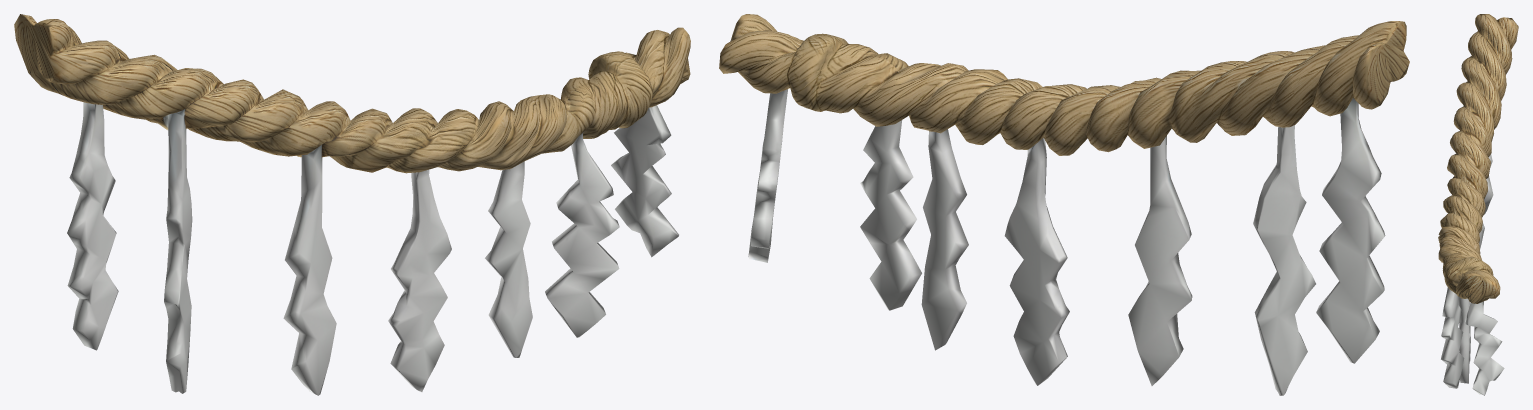
Rendered from tripo_convert_47c2bda7-798b-4639-9198-2c9faf84a029.fbx.
3 views of the same model, side by side, from view 1: azimuth 30°, elevation 25°; view 2: azimuth 150°, elevation 25°; view 3: azimuth 270°, elevation 25° (orthographic). The views are drawn at different scales.
Visible parts, largest first — view 1: tripo_node_47c2bda7; view 2: tripo_node_47c2bda7; view 3: tripo_node_47c2bda7.
Part boxes in pixels (<box>): tripo_node_47c2bda7: <box>14,14,690,395</box>; tripo_node_47c2bda7: <box>719,14,1409,395</box>; tripo_node_47c2bda7: <box>1438,14,1518,395</box>.
Size of the model in its own units: 97.97 by 19.13 by 65.36.
